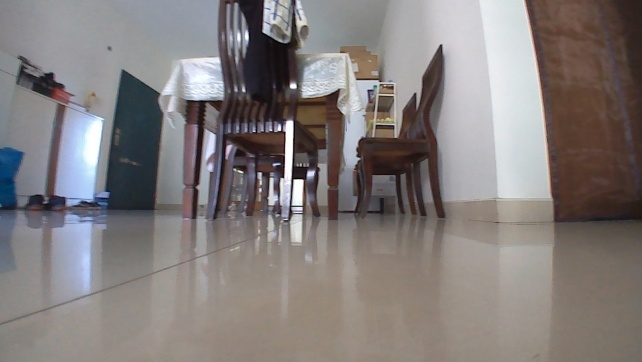dining_table: (157, 0, 456, 225)
door_anno: (100, 71, 164, 209)
